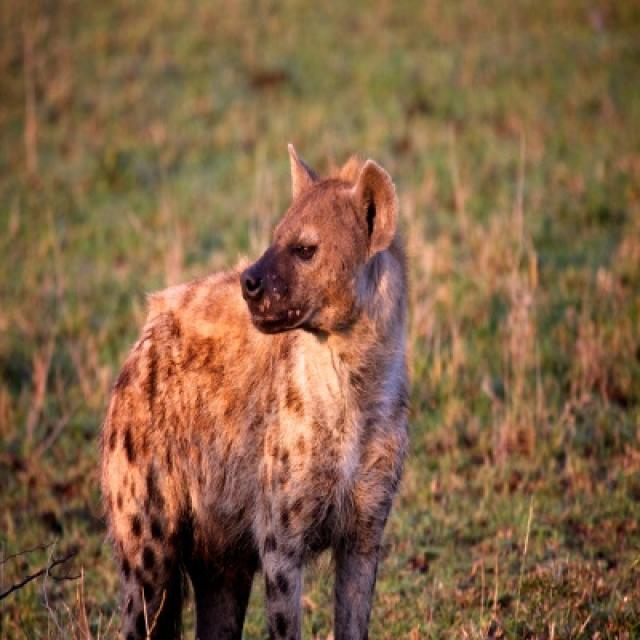hyena: (98, 146, 410, 638)
